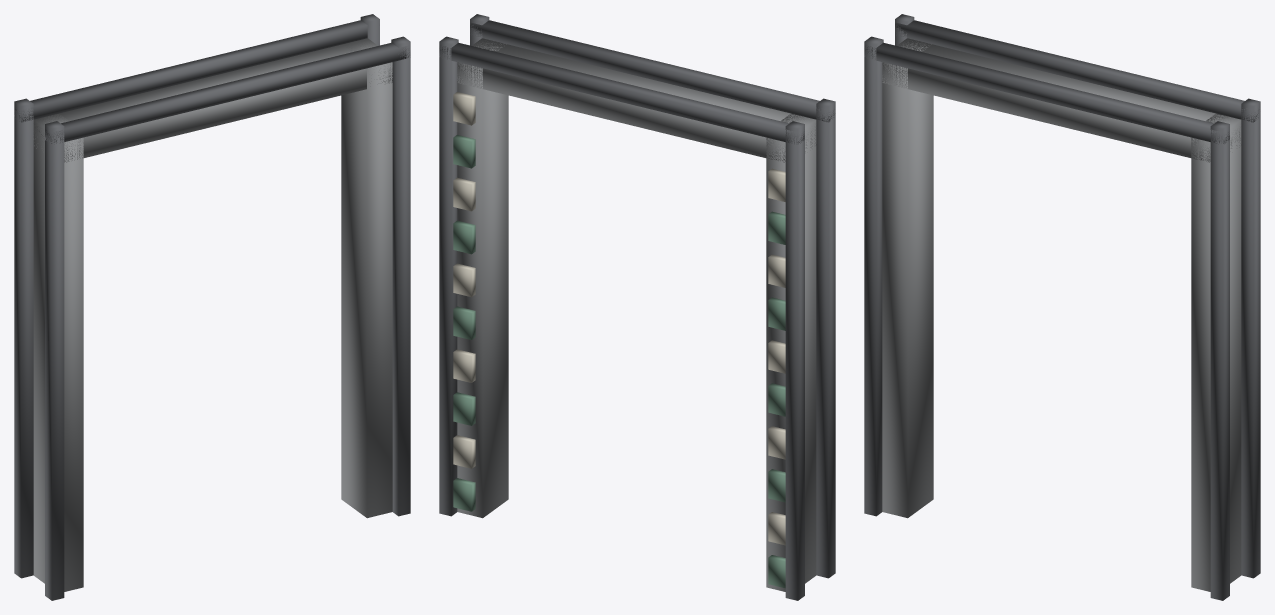
Rendered from doorway_tile_return_w152_h220_d24.glb.
The picture shows the model from 3 angles, left to right: view 1: azimuth 30°, elevation 25°; view 2: azimuth 150°, elevation 25°; view 3: azimuth 330°, elevation 25°; orthographic projection.
Parts seen in each view (by area): view 1: world; view 2: world; view 3: world.
Part boxes in pixels (x1,y1,x2,y2): world: [14, 14, 410, 600]; world: [439, 14, 835, 600]; world: [864, 14, 1260, 600].
Size of the model in its own units: 1.92 by 2.42 by 0.3516.
